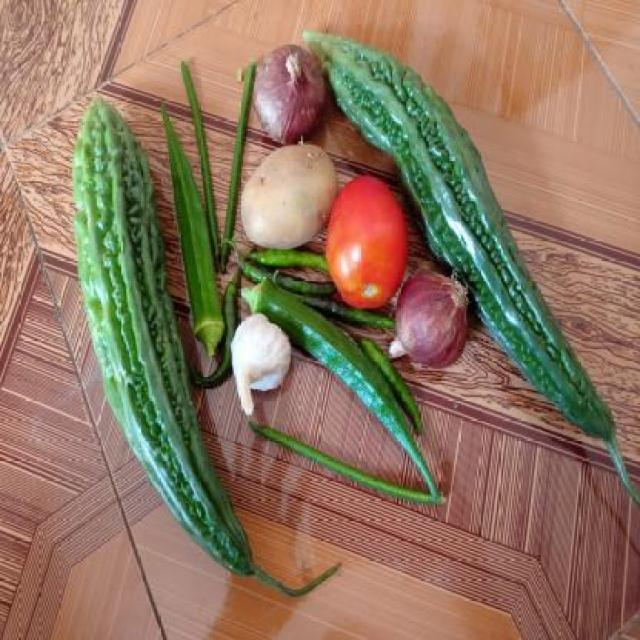Bitter melon: (64, 90, 196, 572)
Garlic: (229, 314, 297, 411)
Lady finger: (153, 100, 224, 349)
Onion: (396, 268, 478, 369), (248, 43, 326, 145)
Potato: (243, 152, 340, 251)
Tomato: (322, 169, 409, 305)
